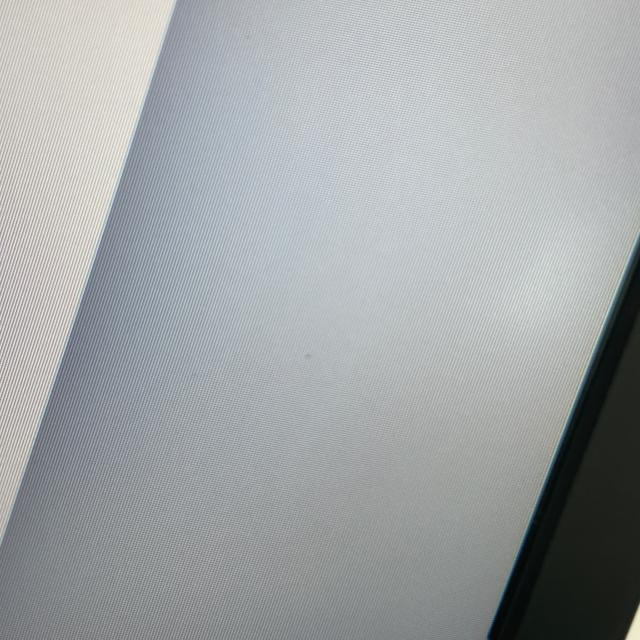Dead pixel: (304, 353, 310, 359)
